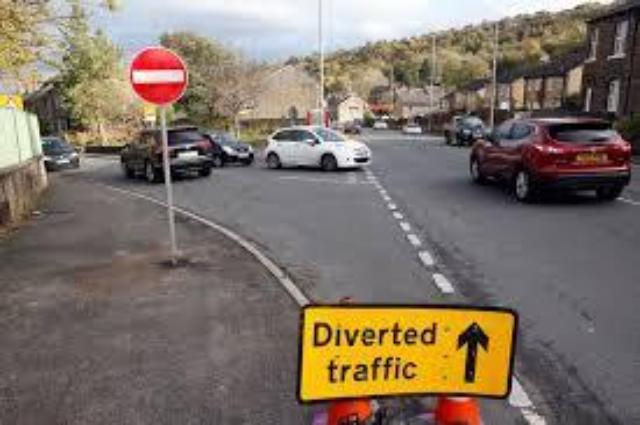B2: (131, 44, 187, 104)
